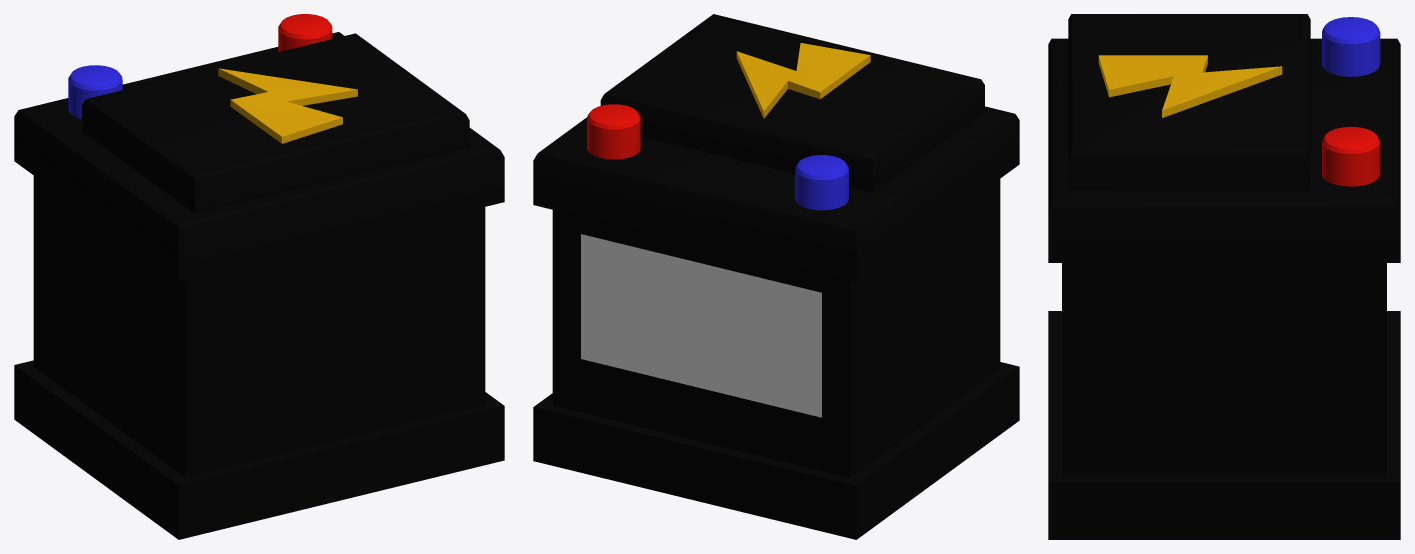
Rendered from acumulador.fbx.
The picture shows the model from 3 angles, left to right: view 1: azimuth 30°, elevation 25°; view 2: azimuth 150°, elevation 25°; view 3: azimuth 270°, elevation 25°; orthographic projection. The views are drawn at different scales.
Visible parts, largest first — view 1: Cube.004; view 2: Cube.004; view 3: Cube.004.
Part boxes in pixels (x1,y1,x2,y2): Cube.004: [14, 14, 504, 539]; Cube.004: [533, 14, 1019, 539]; Cube.004: [1048, 14, 1400, 539].
Bounding box in the file's own units: 1.24 × 1.3 × 1.09.
